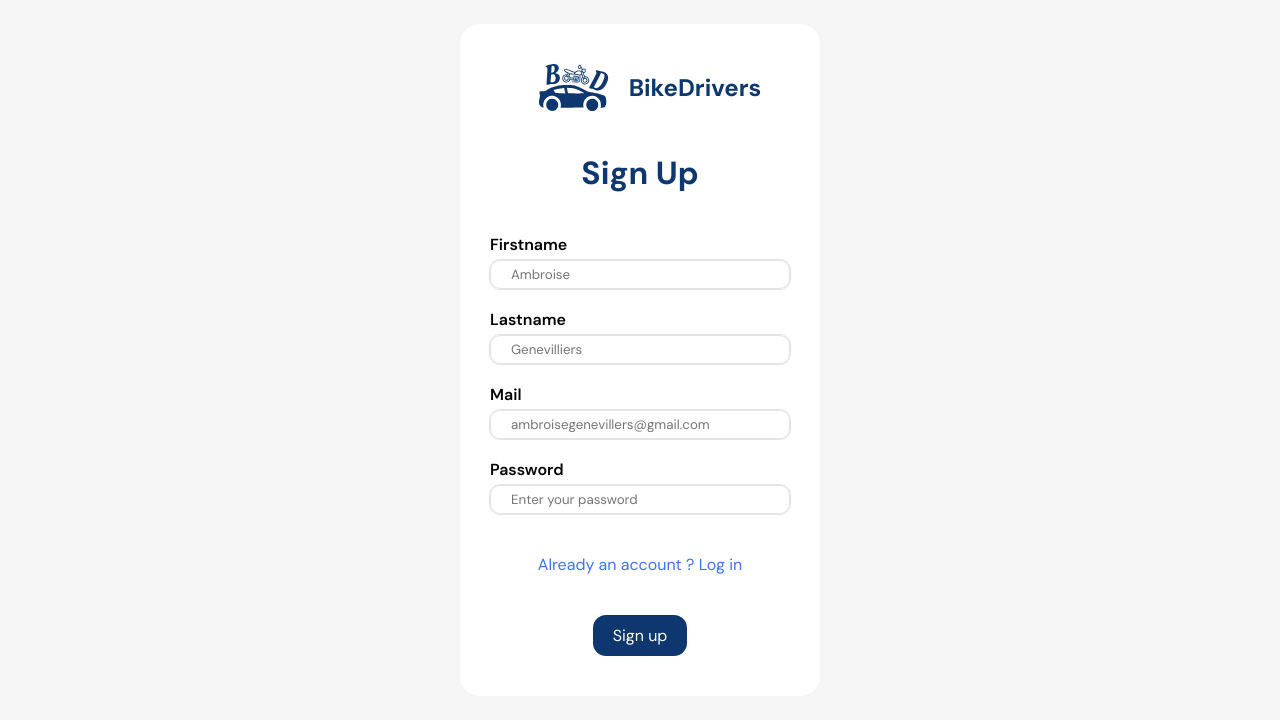
Test: Sign Up page tests › Should redirect to Login page
Click the link "Already an account ? Log in".
click(640, 564)  # box top-left (538, 554), bottom-right (742, 574)
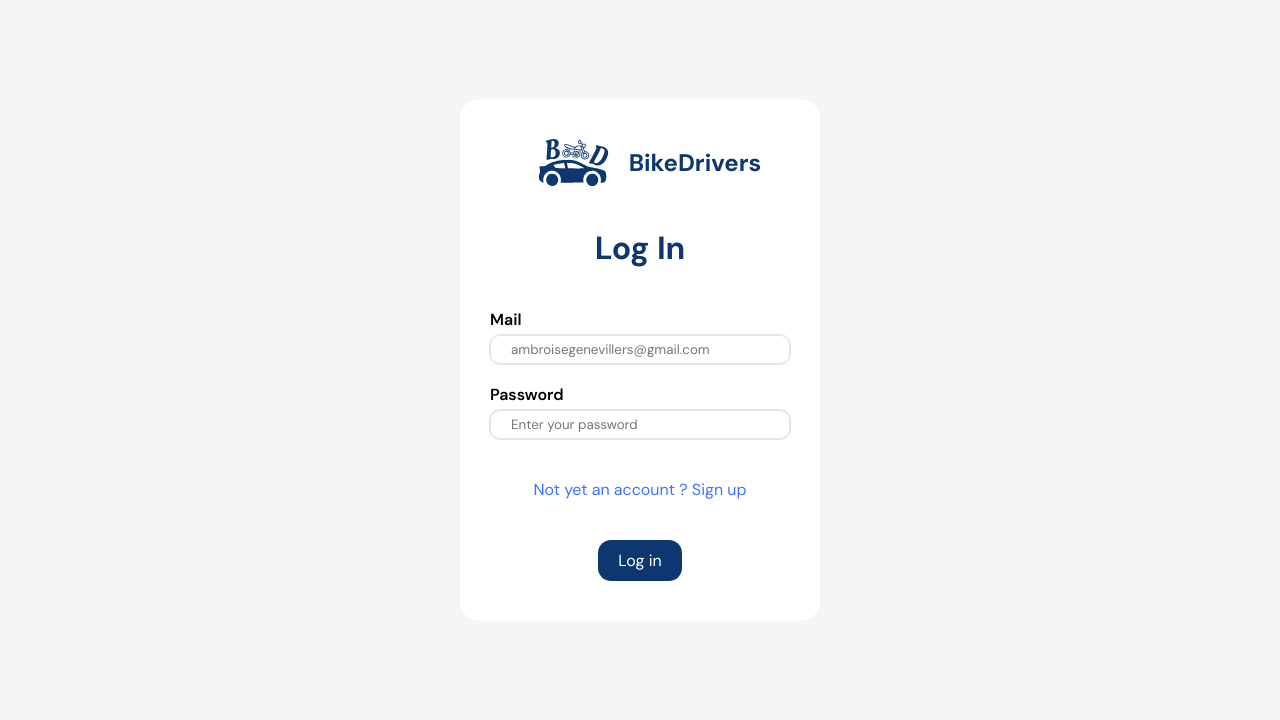
Expected: the element with class "login-page" is shown
